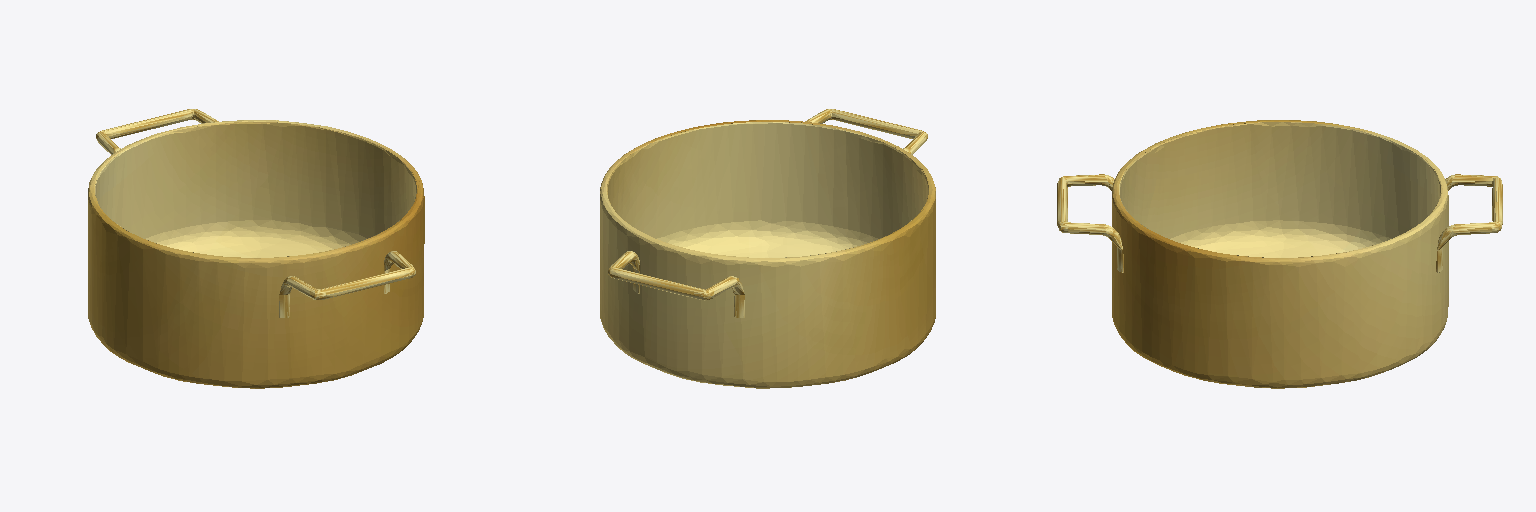
3 renders of one model, left to right at view 1: azimuth 30°, elevation 25°; view 2: azimuth 150°, elevation 25°; view 3: azimuth 270°, elevation 25°, orthographic.
Parts seen in each view (by area): view 1: cacerola_Cylinder.000; view 2: cacerola_Cylinder.000; view 3: cacerola_Cylinder.000.
Boxes of the visible parts, x1,y1,x2,y2 form: cacerola_Cylinder.000: [88, 109, 424, 388]; cacerola_Cylinder.000: [600, 109, 935, 388]; cacerola_Cylinder.000: [1057, 120, 1502, 388].
Bounding box in the file's own units: 39.98 × 17.43 × 52.99.
Materials: 1 (1 with a texture image).